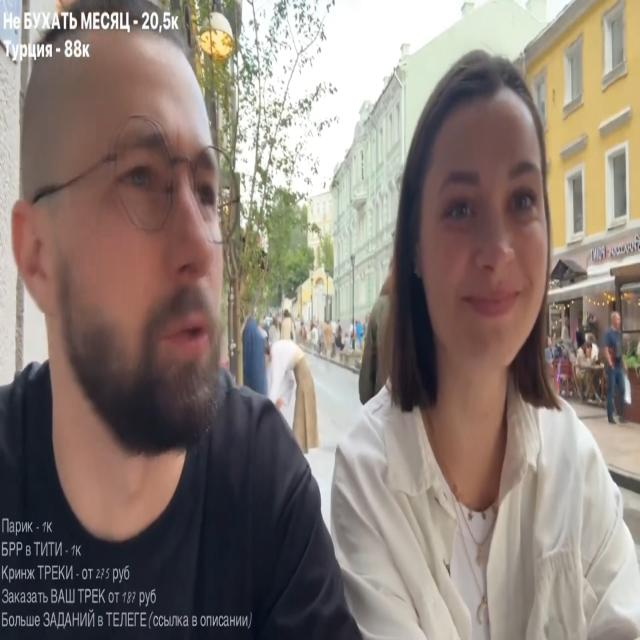Person: (0, 26, 367, 637), (298, 48, 640, 634), (601, 312, 629, 426)
